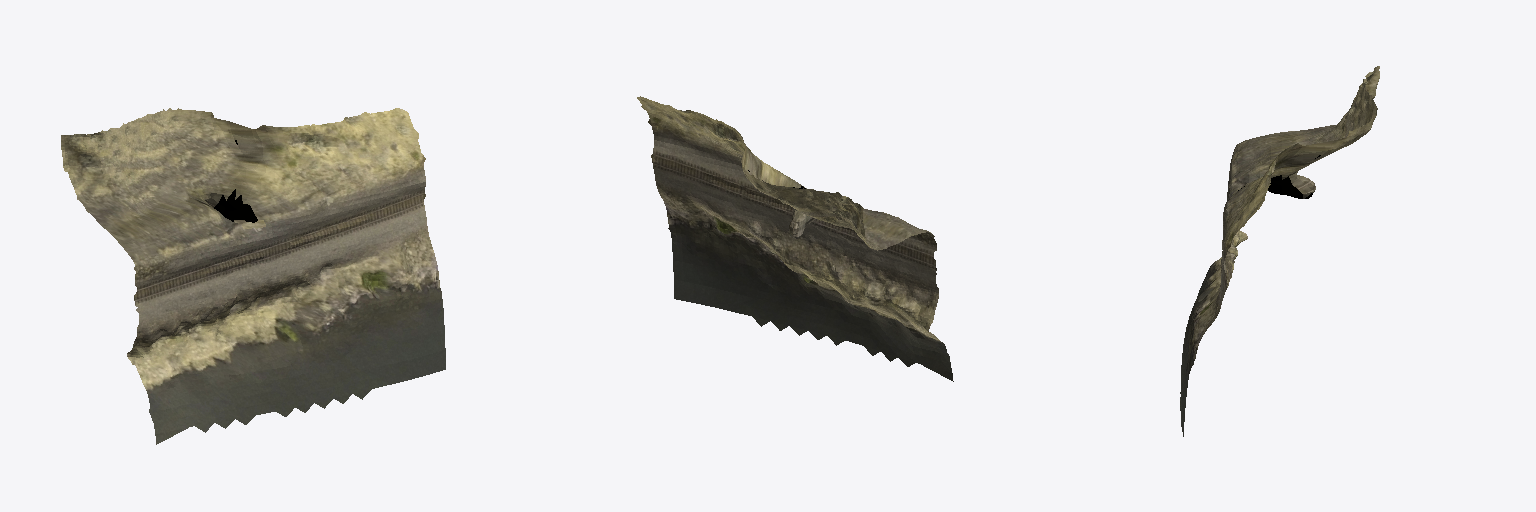
3 renders of one model, left to right at view 1: azimuth 30°, elevation 25°; view 2: azimuth 150°, elevation 25°; view 3: azimuth 270°, elevation 25°, orthographic.
Size of the model in its own units: 1.97 by 1.59 by 1.17.
1 materials, 1 textured.